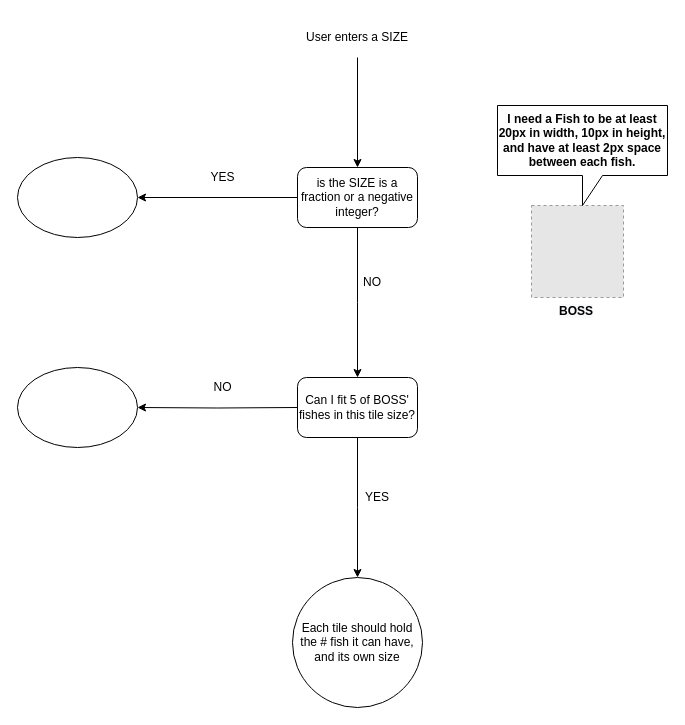
This 685x725 diagram has some shape labels left out. Grey dashed boxes stand in for pictures. Here are the shapes that lost their labels. From the top down, the box of each, then its label:
(16, 156, 138, 238): ERR: SIZE should be a positive integer
(16, 366, 138, 448): ERR: SIZE is not big enough
